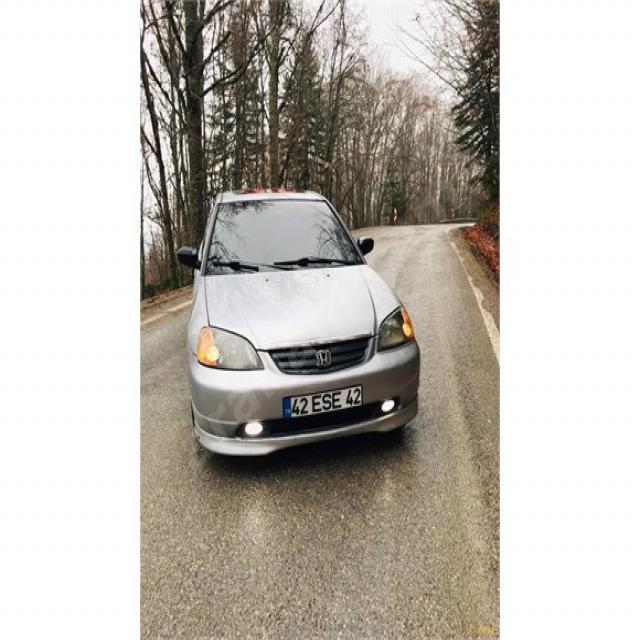plate: (282, 384, 364, 422)
